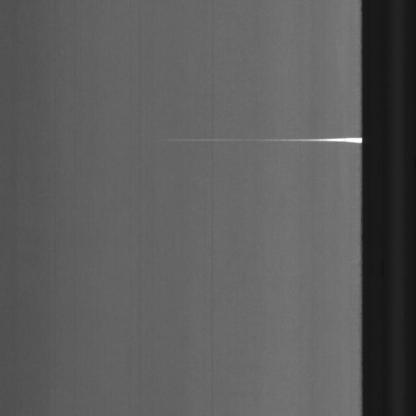crease: (124, 108, 361, 164)
